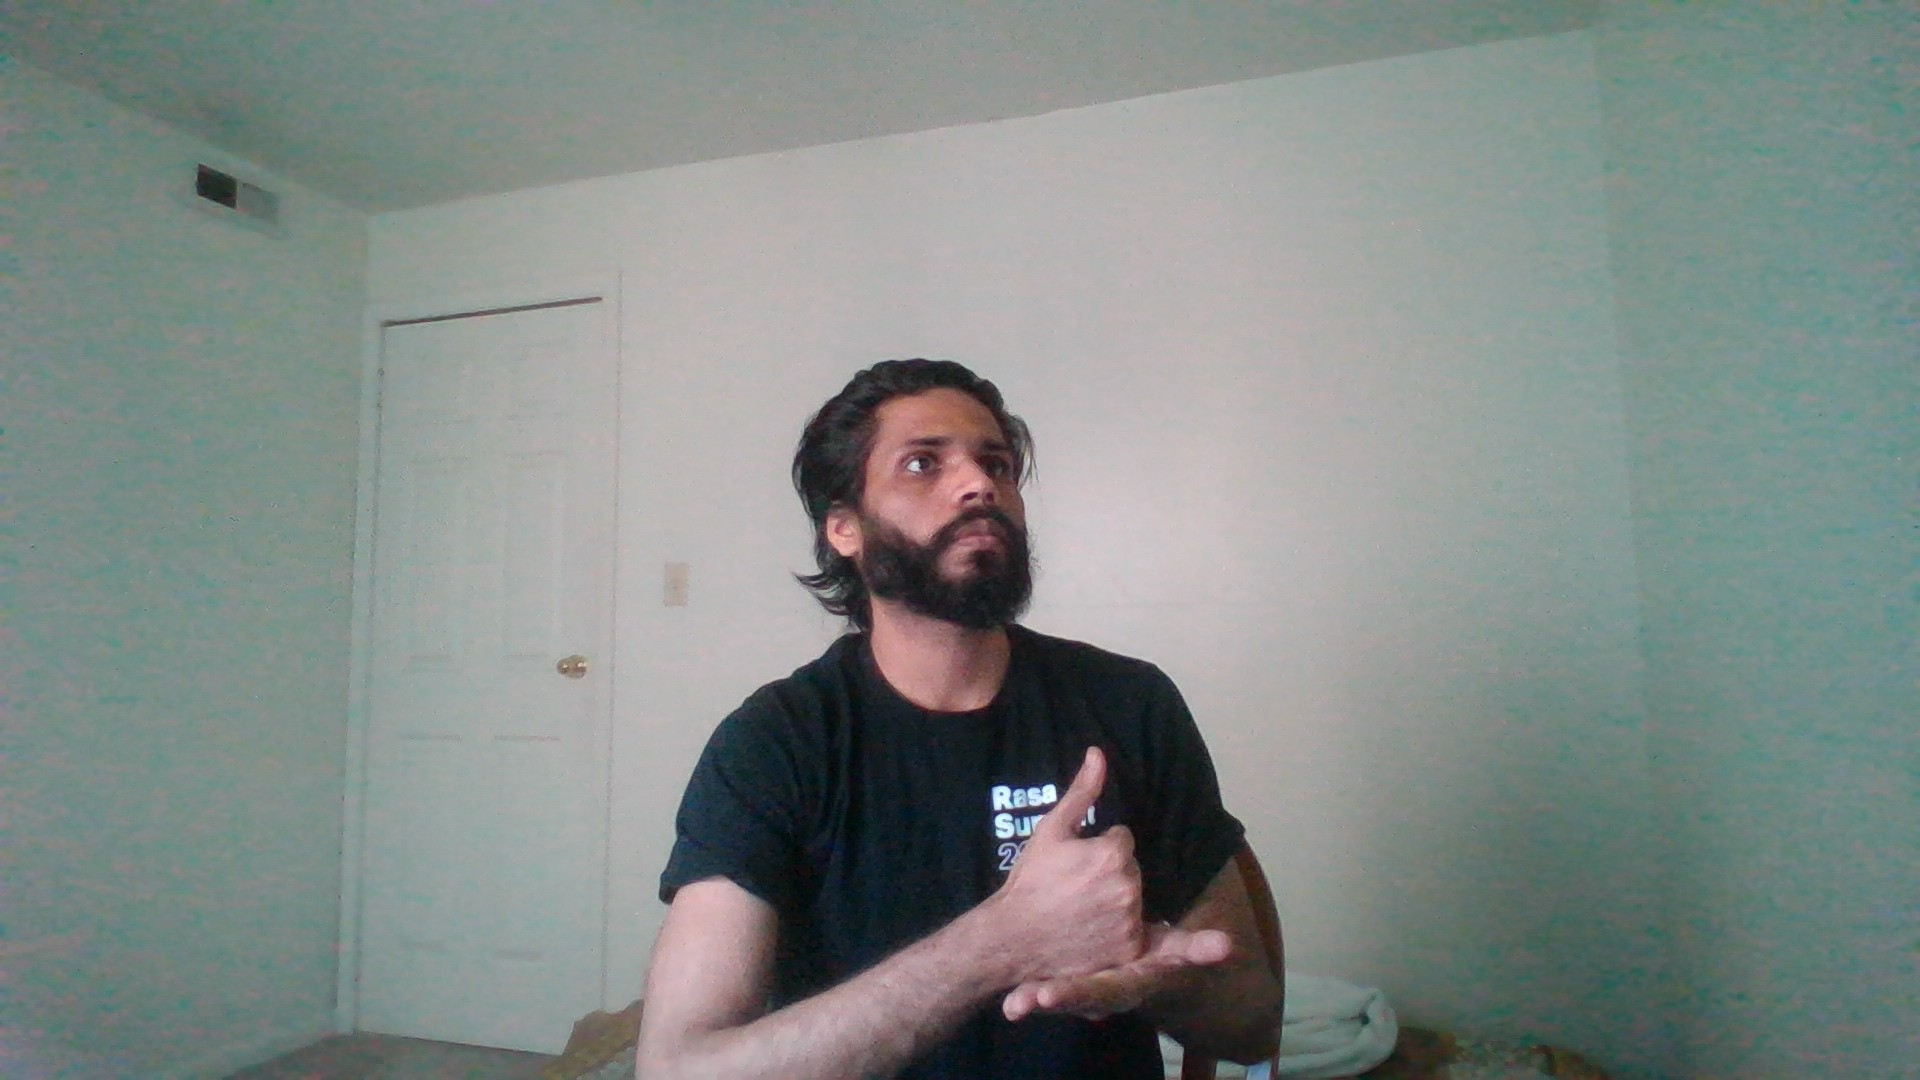Help: (947, 724, 1247, 1036)
